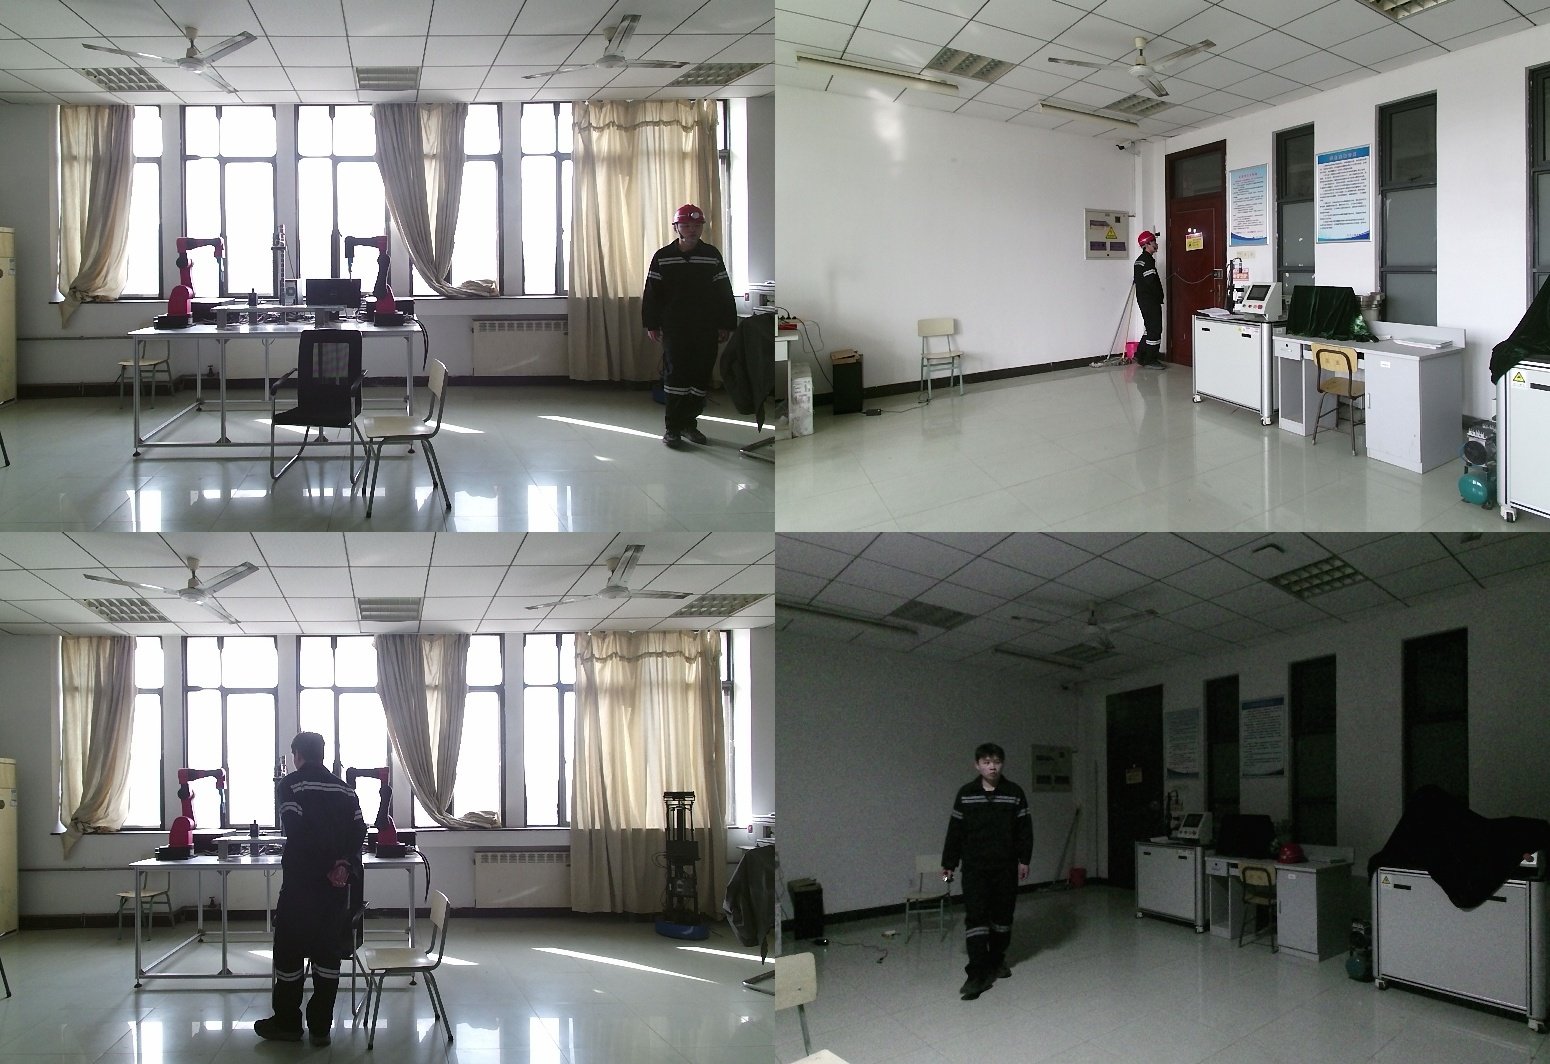person: (255, 734, 369, 1043), (943, 747, 1040, 997), (643, 207, 738, 448), (1130, 229, 1165, 372)
